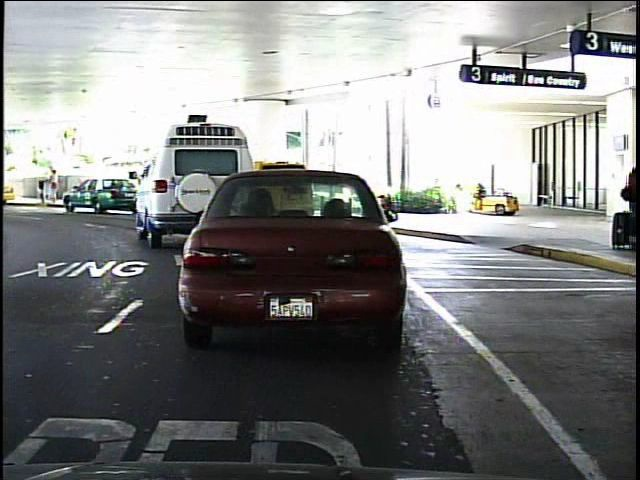person: (46, 166, 64, 205), (48, 163, 61, 202)
